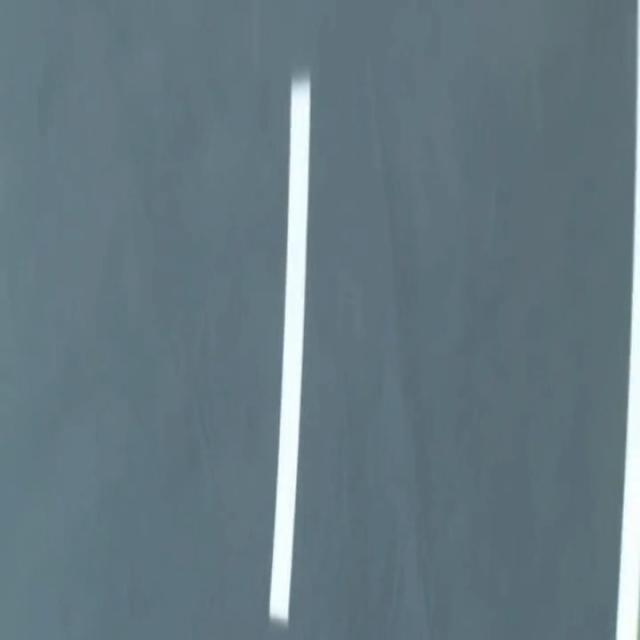center: (268, 75, 310, 625)
right: (616, 79, 639, 639)
